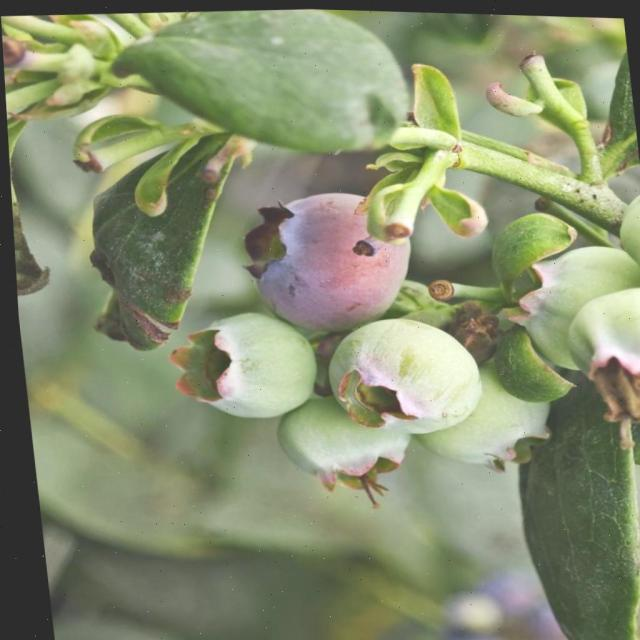Semi-RipeBlueBerry: (225, 178, 434, 348), (173, 302, 318, 437)
UnripeBlueBerry: (317, 299, 488, 446)
